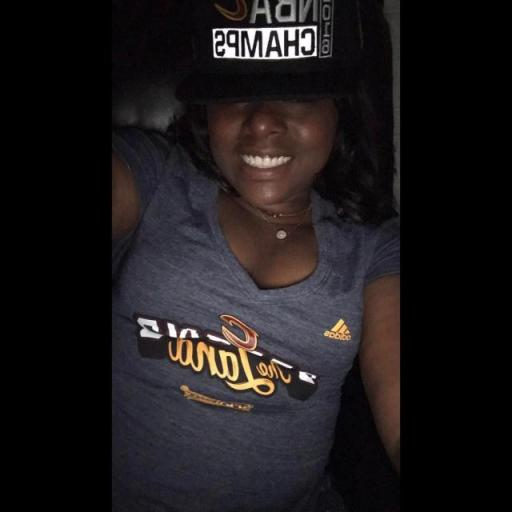Adidas: (322, 317, 352, 342)
